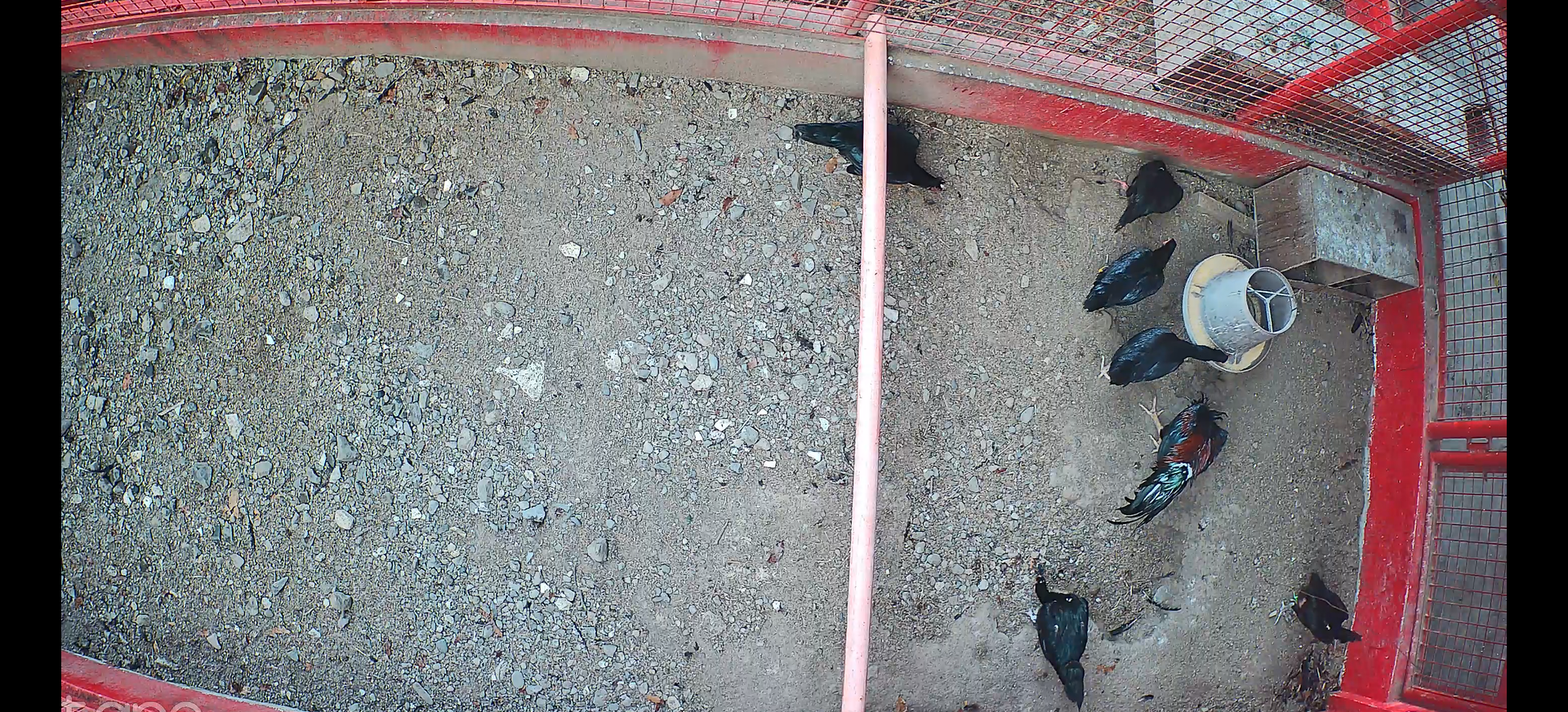Chicken: (793, 118, 947, 195), (1094, 314, 1229, 386), (1023, 575, 1090, 707), (1083, 235, 1177, 312), (1273, 570, 1363, 648), (1112, 157, 1183, 233)
Feeder: (1181, 253, 1298, 375)
Rooster: (1106, 388, 1230, 532)
